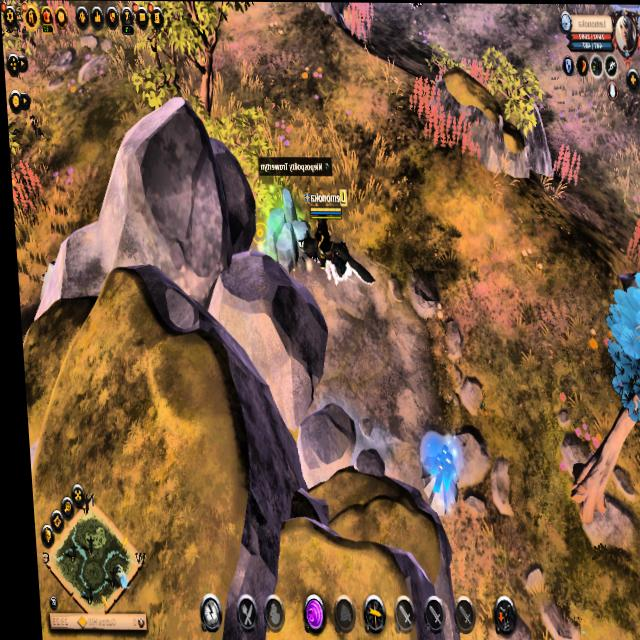ore tier 4: (409, 436, 460, 518)
